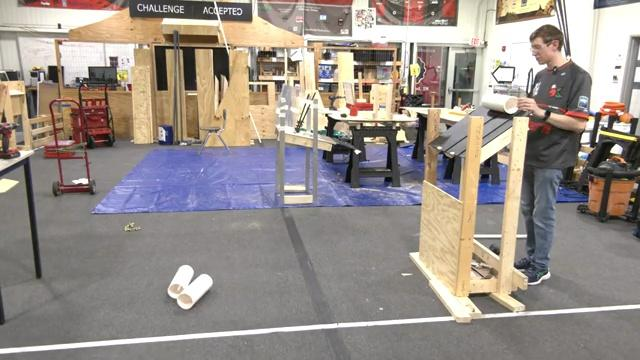CORAL: (176, 272, 213, 310), (166, 263, 194, 298), (480, 91, 519, 114)
